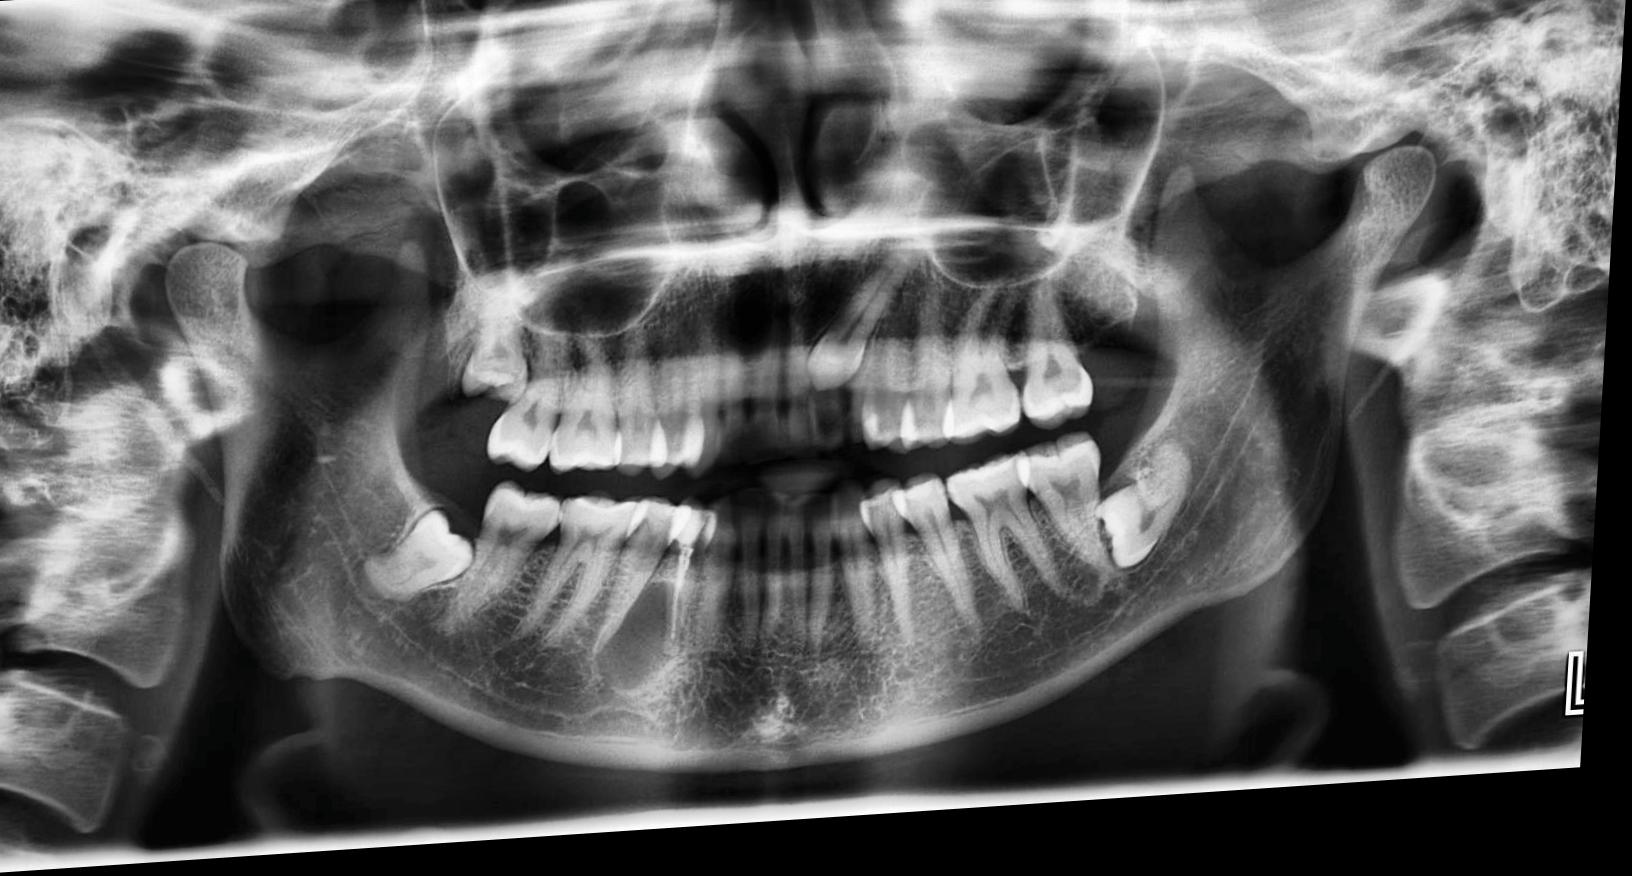radikuler: (602, 587, 698, 702)
